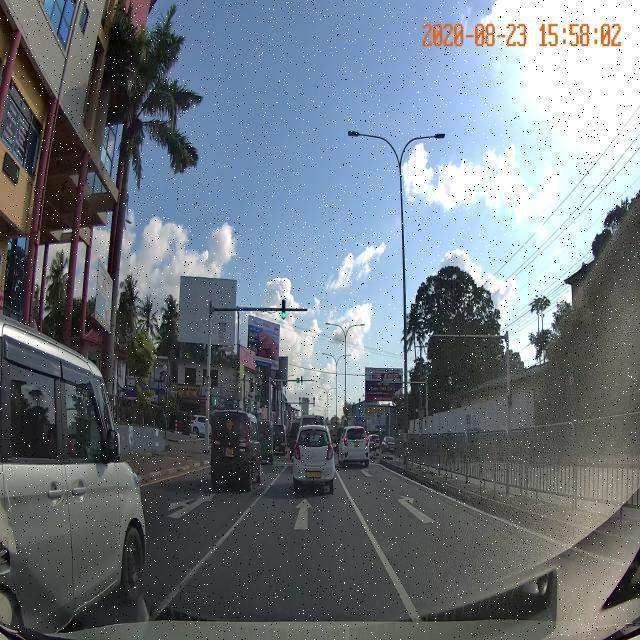forward: (209, 486, 380, 542)
